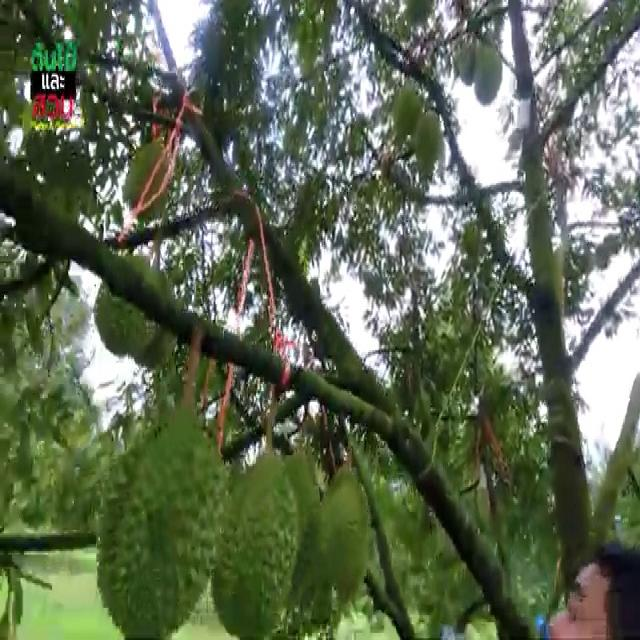durian: (94, 401, 228, 636), (208, 439, 302, 637), (92, 252, 160, 363), (123, 264, 183, 378), (412, 106, 446, 182), (473, 27, 504, 107)
